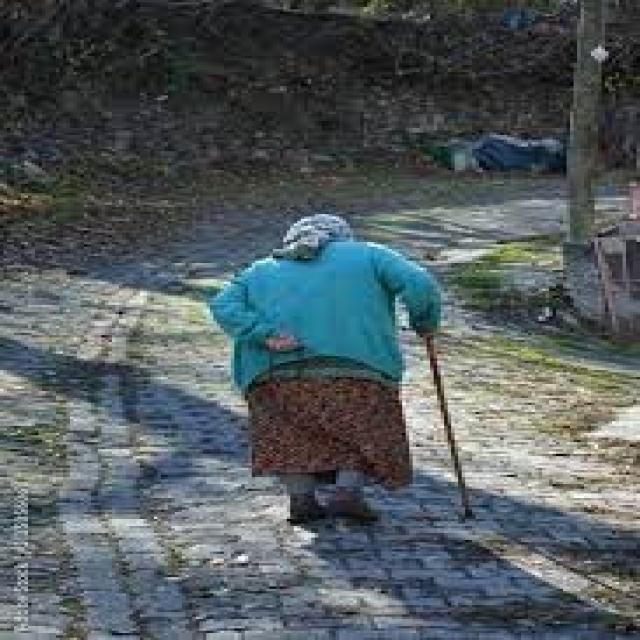idoso em pe: (208, 217, 458, 519)
